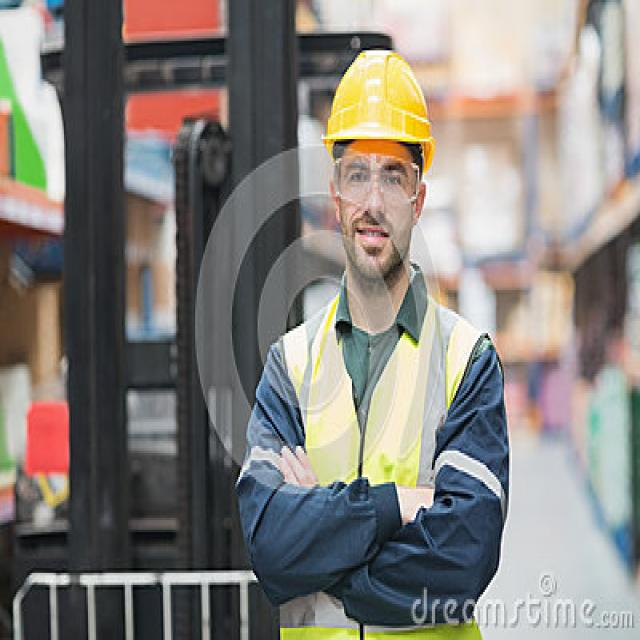Reflective-Jacket: (275, 288, 477, 501)
Safety-Helmet: (320, 43, 438, 161)
